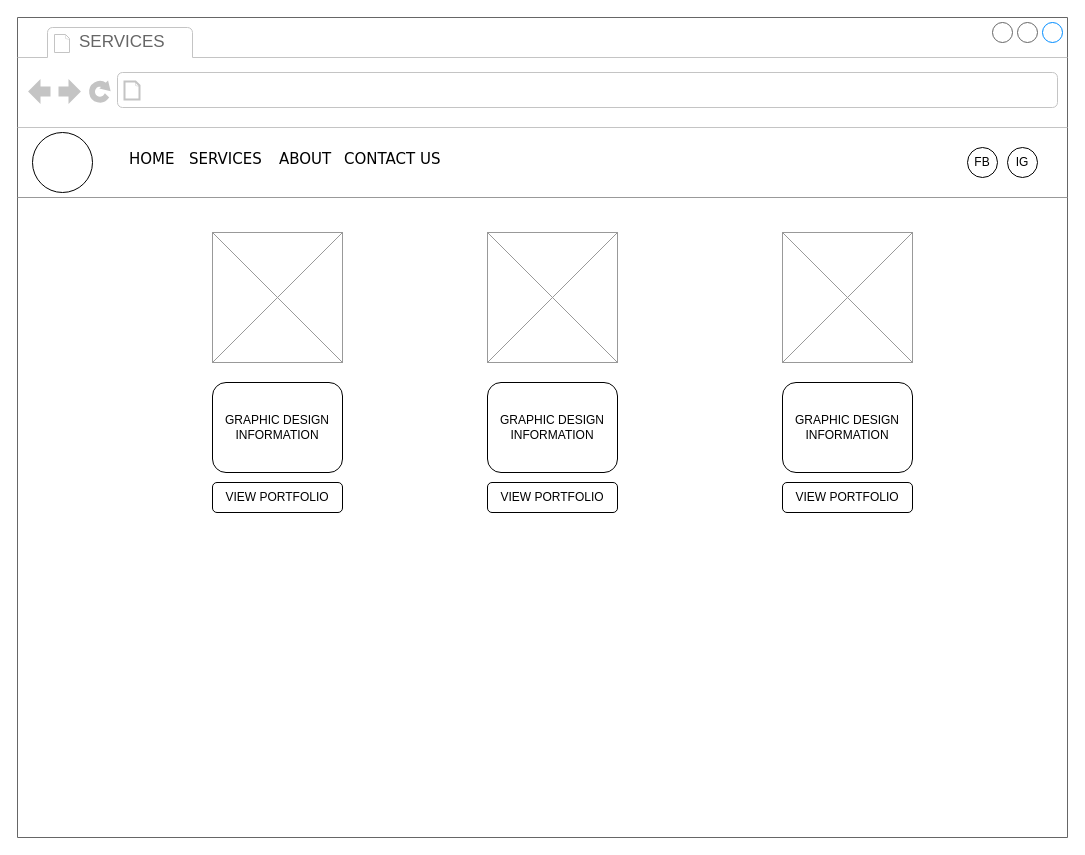
Some shapes in this 1085 by 855 pixel diagram are drawn without their labels. The centre of each missing label's shape, as x and y in pixels:
https://www.ihypesfmedia.com/services: point 307,90
LOGO: point 62,162
